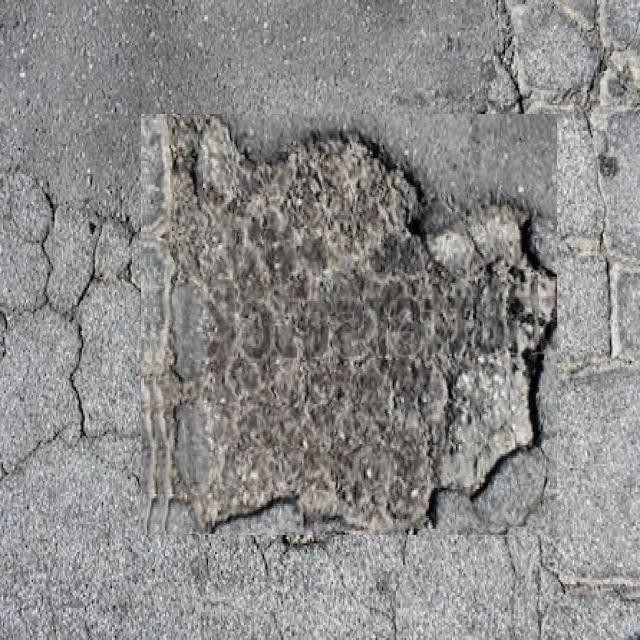Pothole: (141, 114, 557, 535)
